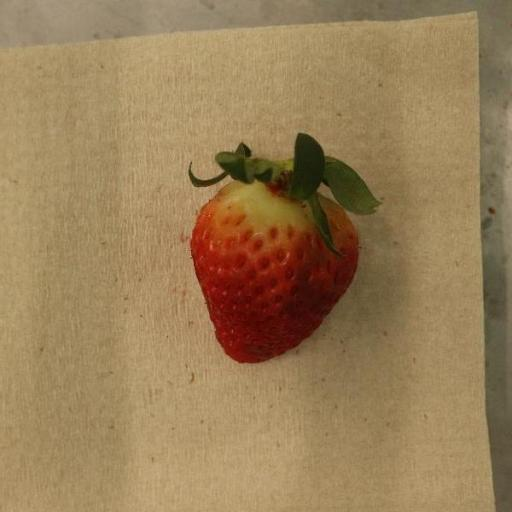Strawberry: (188, 133, 382, 365)
